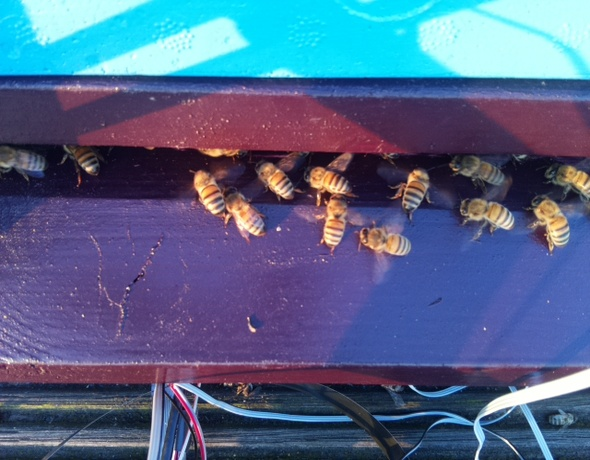no_pollen: (221, 184, 269, 240), (527, 192, 571, 250), (457, 195, 517, 235), (542, 160, 590, 206), (447, 153, 508, 189), (355, 222, 413, 258), (190, 167, 229, 220), (1, 144, 52, 184), (302, 163, 357, 199), (253, 158, 296, 203), (397, 165, 433, 217), (62, 138, 103, 183), (321, 193, 350, 251), (194, 142, 243, 162)
